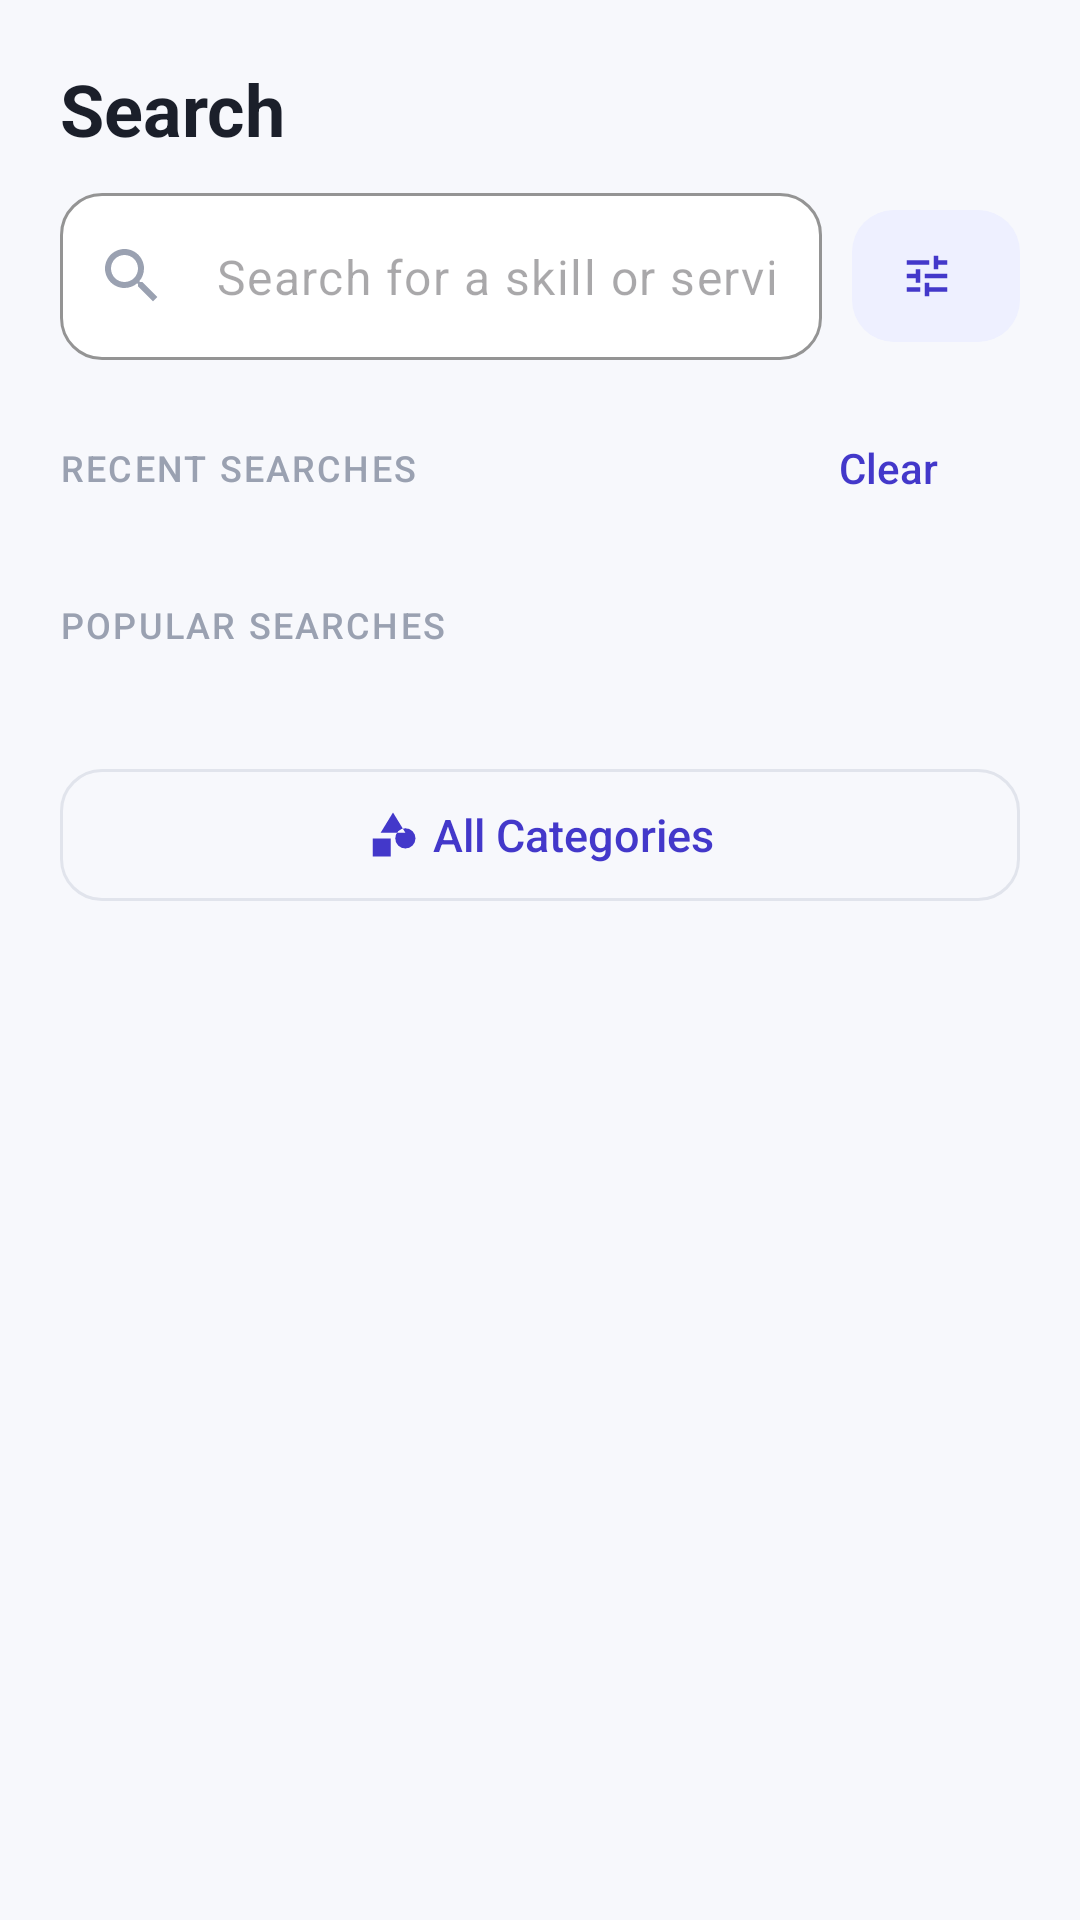

Icon bounding boxes for this 1080px×1920px phone screenshot, format (x1, y1, x2, y2):
Filters: (852, 210, 1020, 342)
